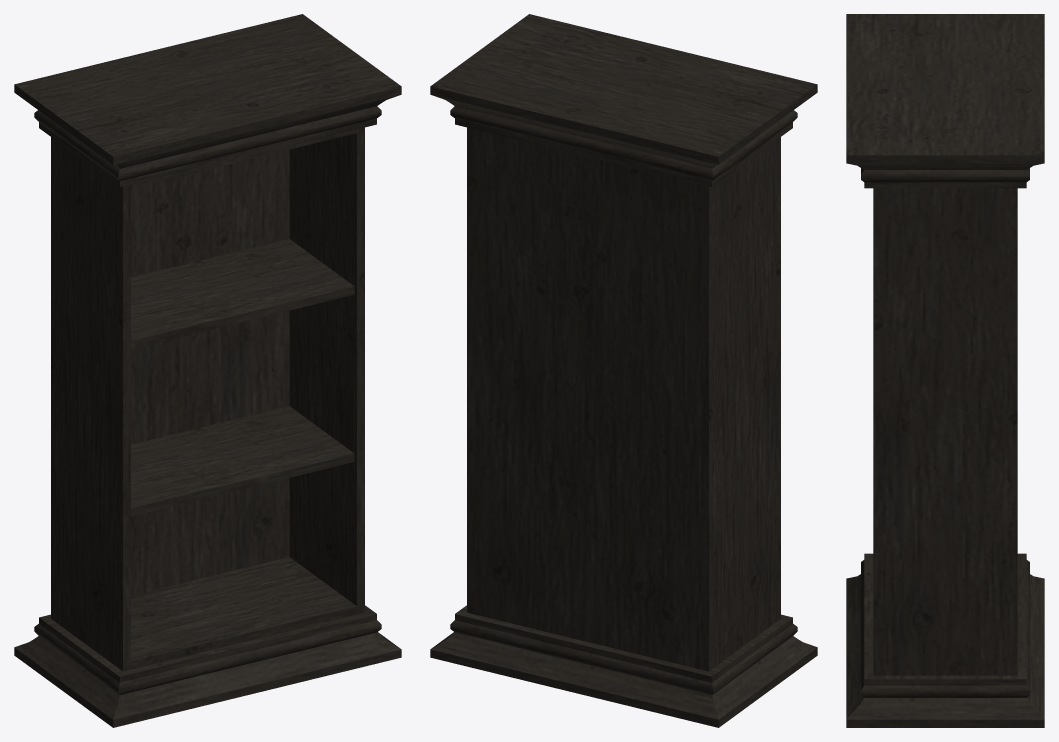
Rendered from shelf_mp_2.obj.
3 views of the same model, side by side, from view 1: azimuth 30°, elevation 25°; view 2: azimuth 150°, elevation 25°; view 3: azimuth 270°, elevation 25° (orthographic).
Visible parts, largest first — view 1: shelf_mp_2; view 2: shelf_mp_2; view 3: shelf_mp_2.
Boxes of the visible parts, left/top/right/bottom form: shelf_mp_2: left=14, top=14, right=401, bottom=727; shelf_mp_2: left=430, top=14, right=817, bottom=727; shelf_mp_2: left=846, top=14, right=1044, bottom=727.
Bounding box in the file's own units: 0.74 × 1.4 × 0.44.
